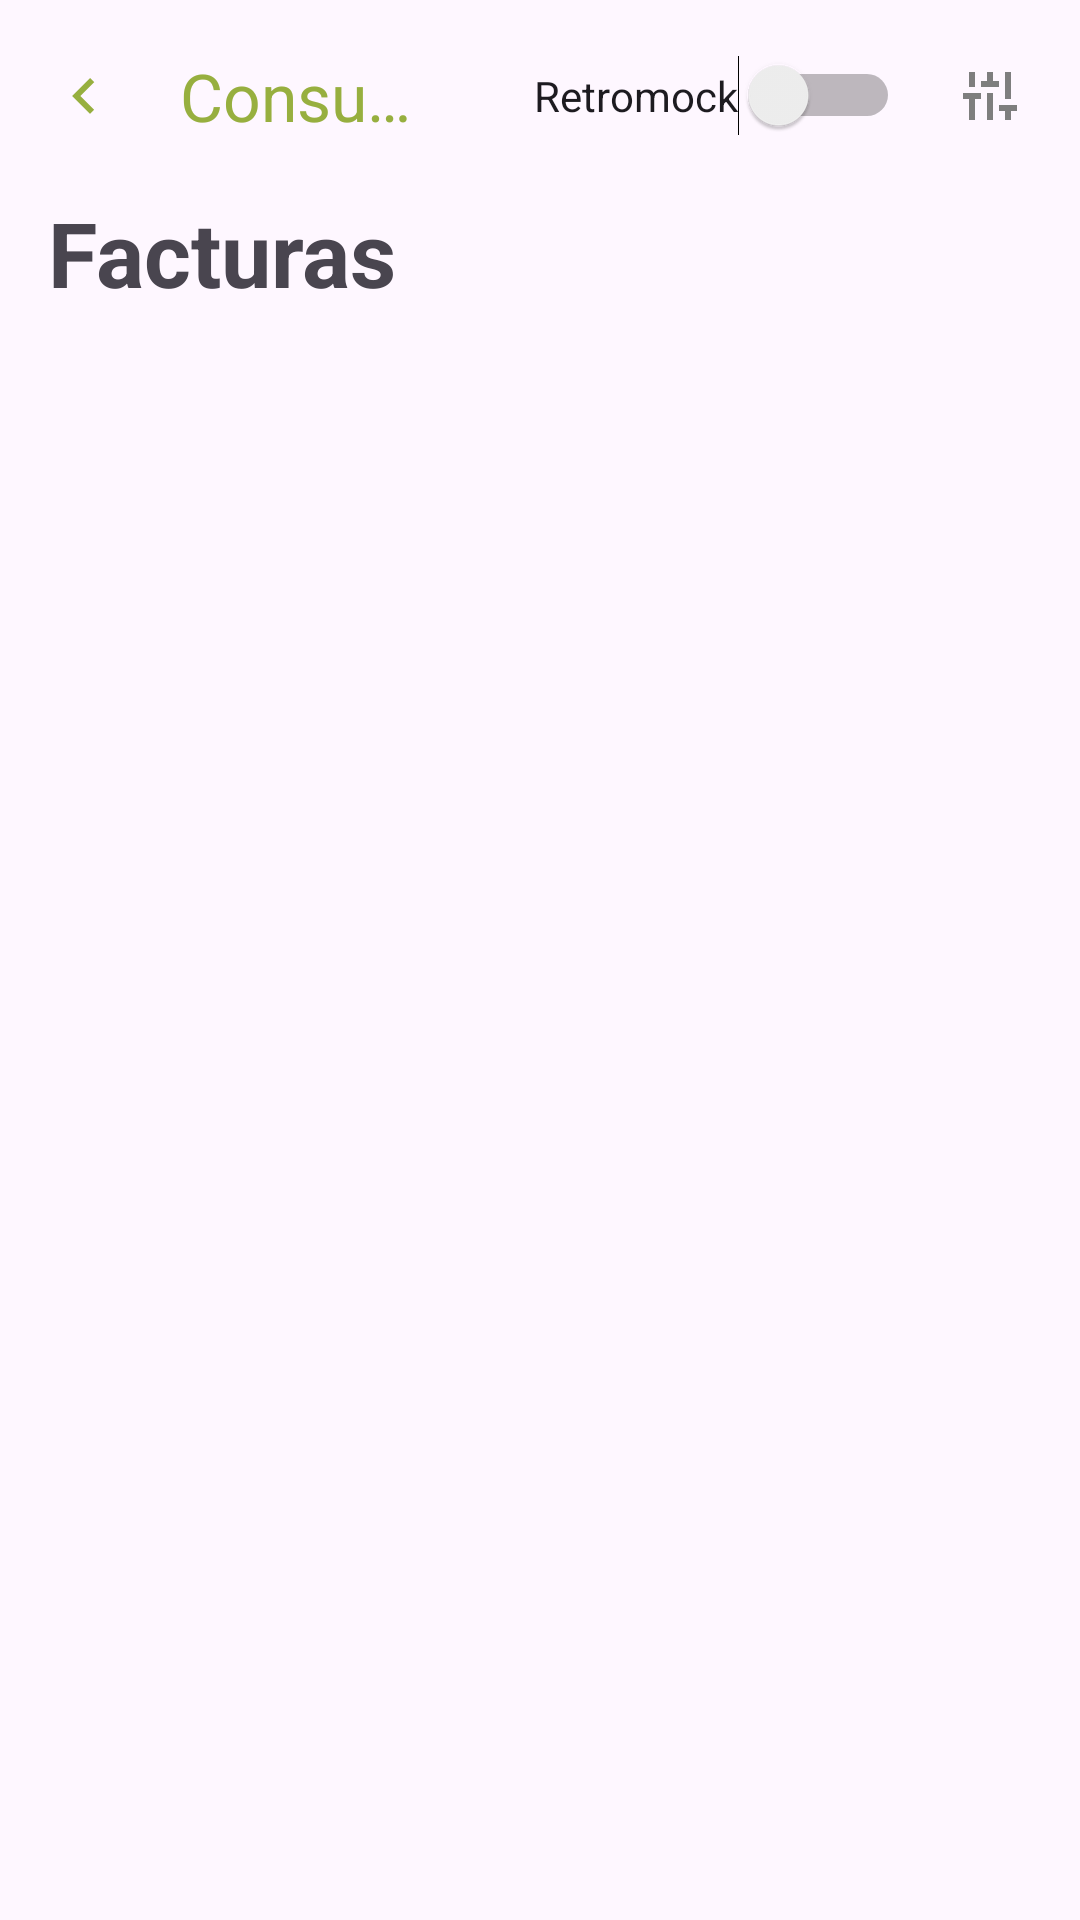

Icons on this 1080x1920 Android screen, each with the point to tap as (x,y):
Filtro: (990,96)
